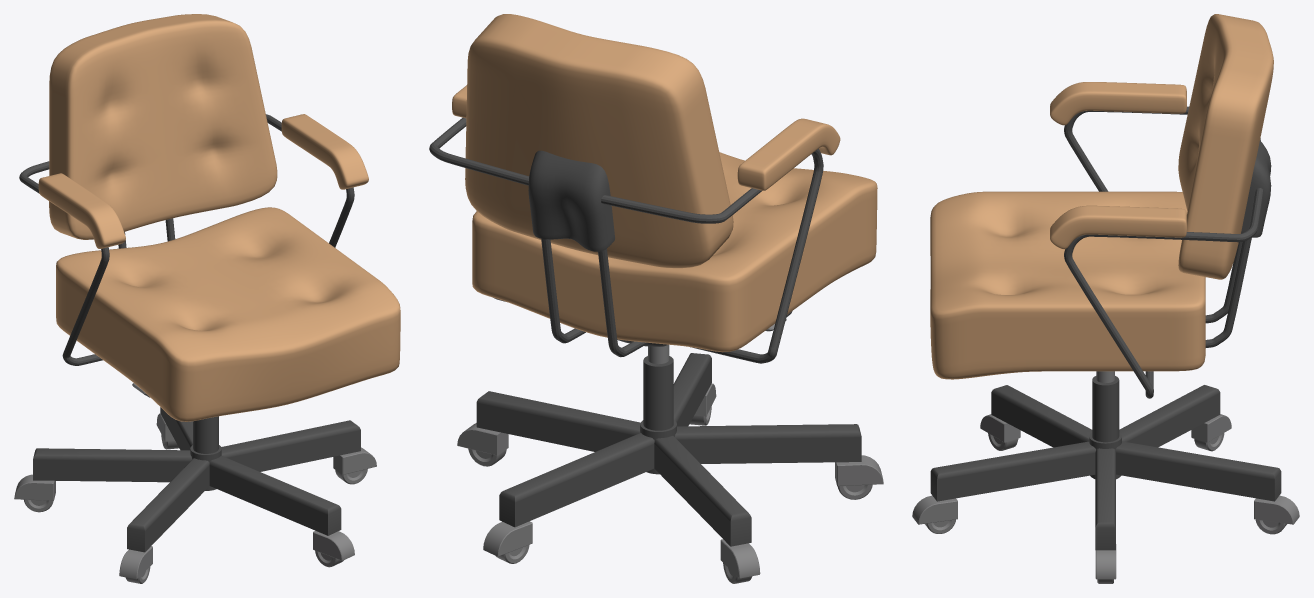
Rendered from Silla de Oficina 3 en GLB.glb.
The picture shows the model from 3 angles, left to right: view 1: azimuth 30°, elevation 25°; view 2: azimuth 150°, elevation 25°; view 3: azimuth 270°, elevation 25°; orthographic projection. The views are drawn at different scales.
Visible parts, largest first — view 1: Chairobj; view 2: Chairobj; view 3: Chairobj.
Boxes of the visible parts, x1,y1,x2,y2 form: Chairobj: (14, 14, 400, 583); Chairobj: (429, 14, 883, 583); Chairobj: (912, 14, 1299, 583).
Size of the model in its own units: 0.6284 by 0.8693 by 0.6607.
